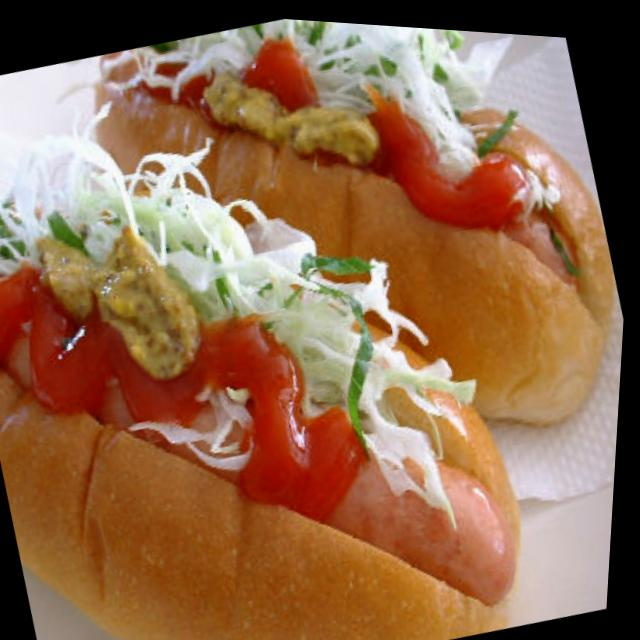汉堡快餐: (0, 39, 584, 640), (27, 3, 640, 537)
